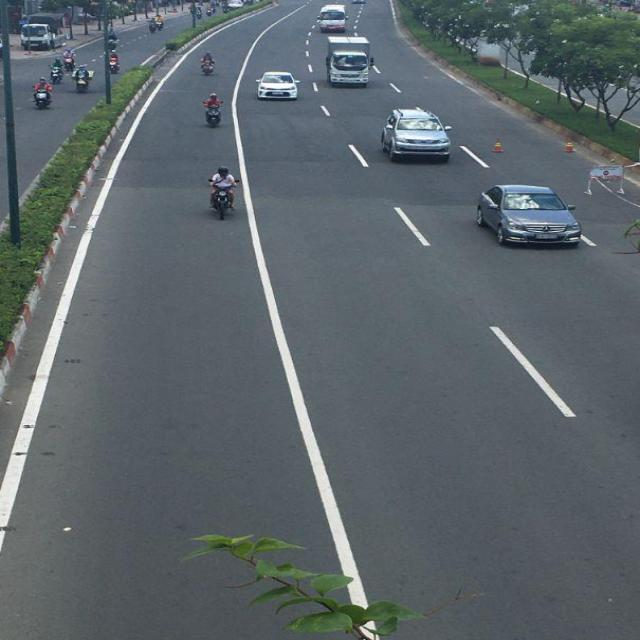car: (477, 185, 584, 247), (379, 108, 454, 162), (257, 72, 299, 100), (319, 5, 346, 35)
motorcycle: (209, 175, 237, 218), (203, 92, 222, 124), (204, 104, 222, 128), (34, 86, 53, 108), (200, 54, 216, 75), (109, 52, 121, 74)
truck: (325, 34, 373, 87), (23, 15, 64, 50)
